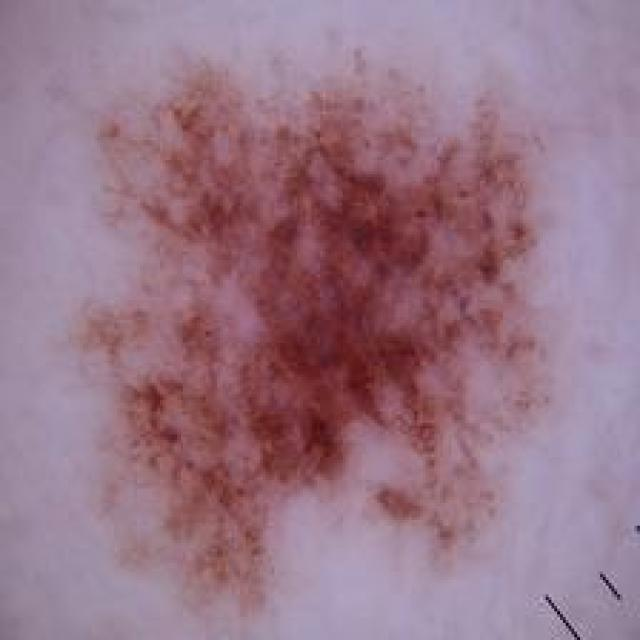Cancer: (69, 40, 554, 629)
